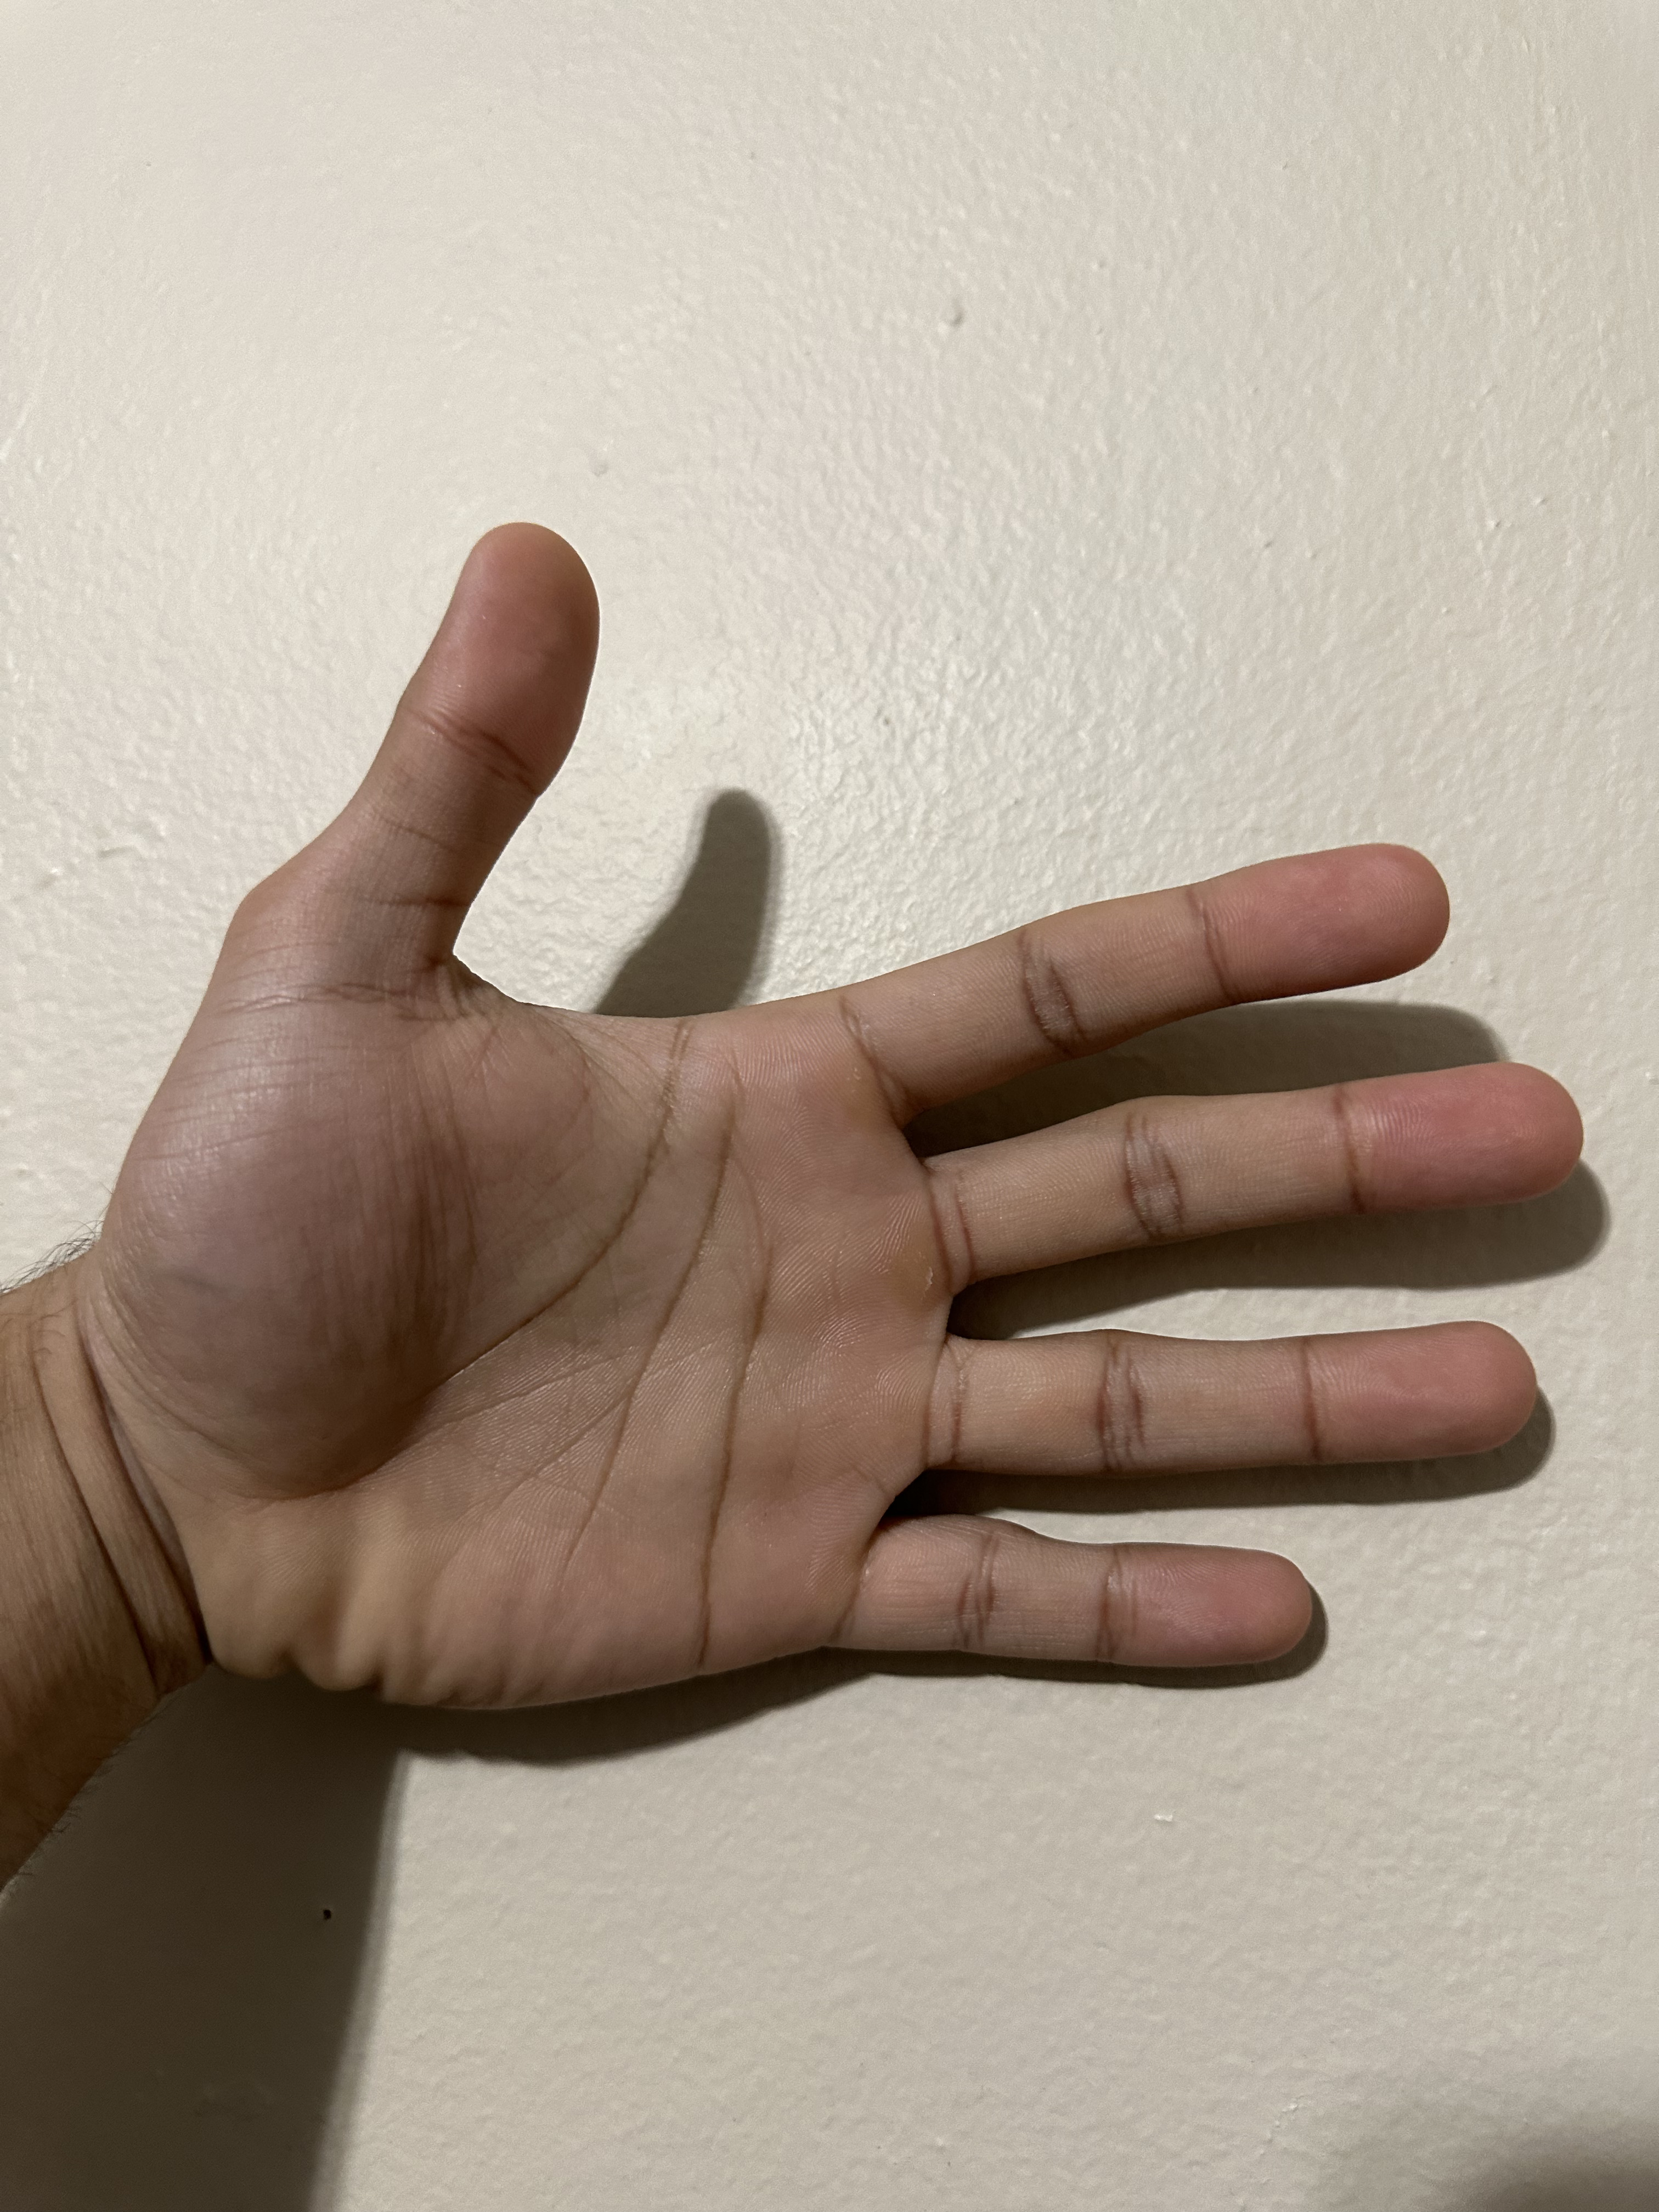finger: (420, 486, 624, 791), (1180, 815, 1485, 1005), (1288, 1292, 1581, 1484), (1326, 1049, 1614, 1238), (1107, 1515, 1340, 1707)
